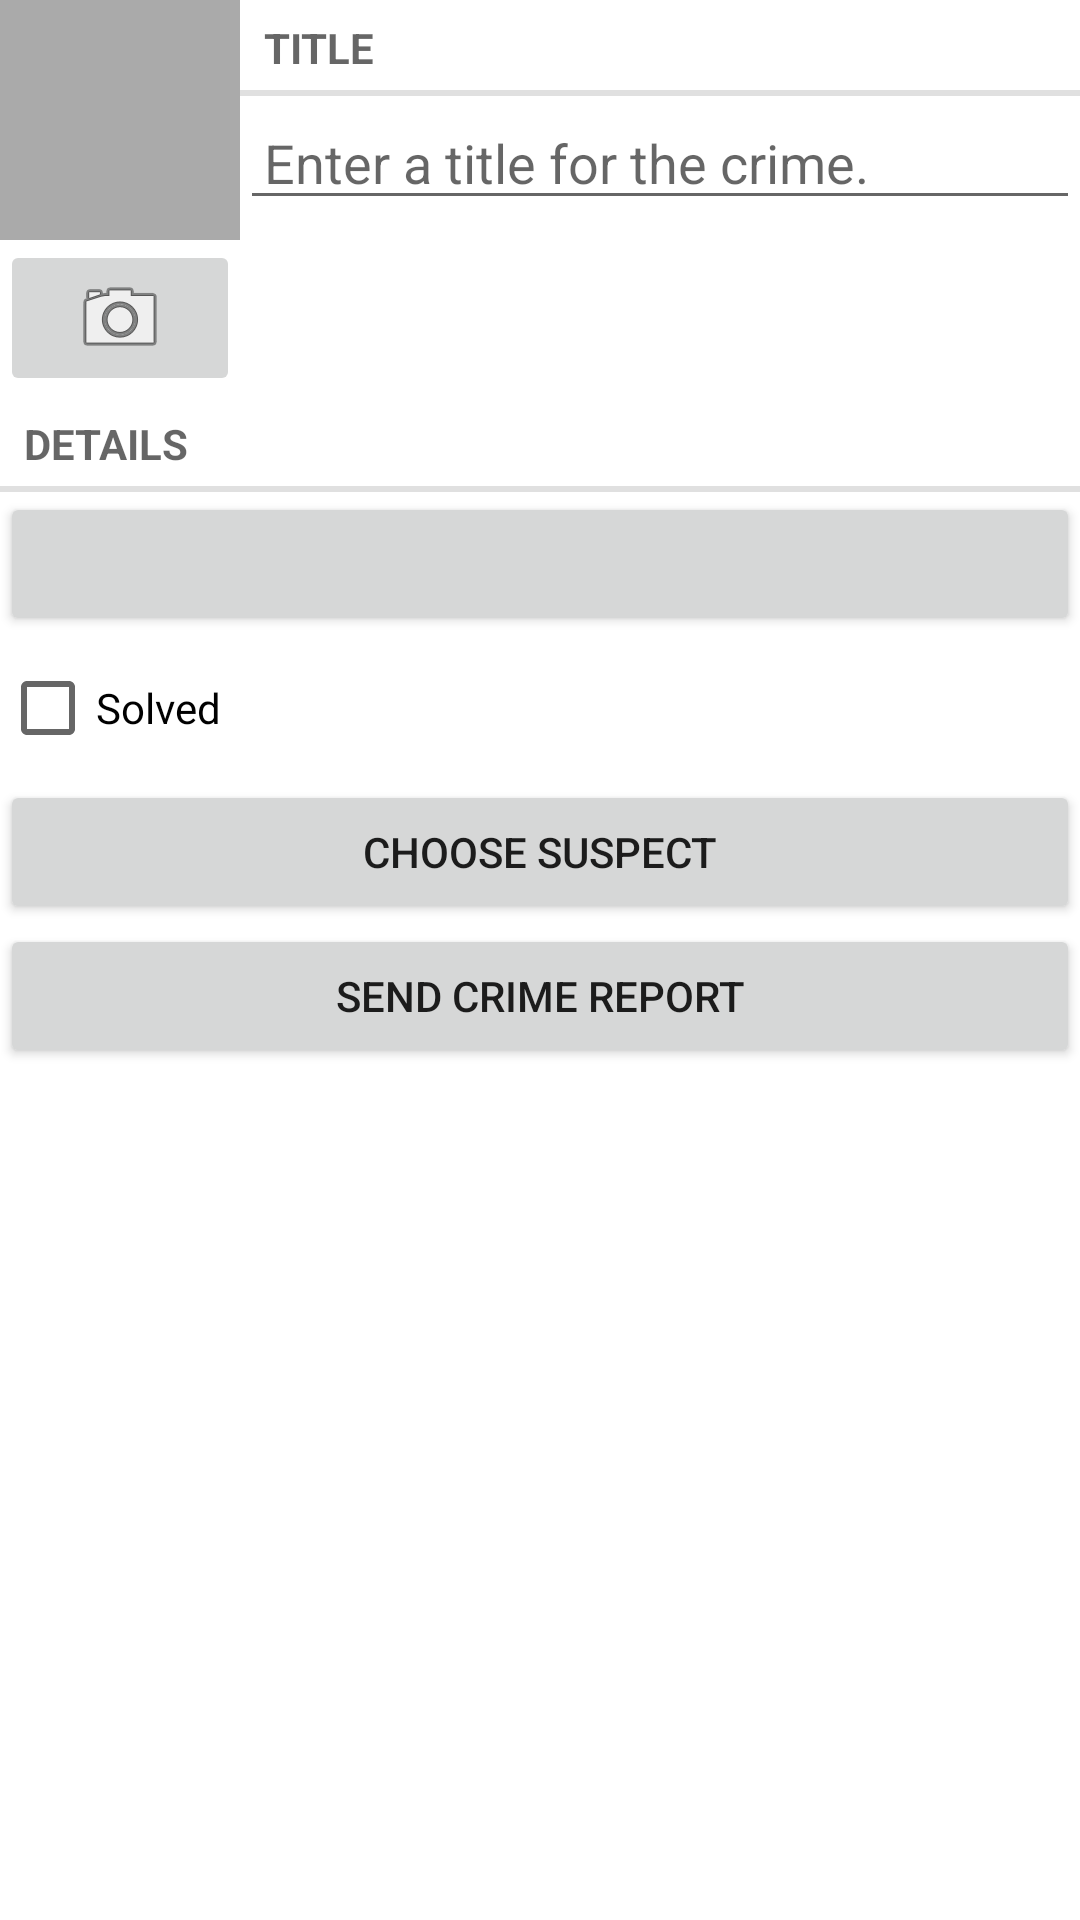

Locate icon controls on the screen. Image size 1080w x 1920h, boxes as bbox(x1, y1, x2, y2).
camera: bbox(12, 258, 228, 378)
